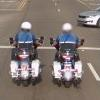Motorcycle: (6, 14, 94, 93)
